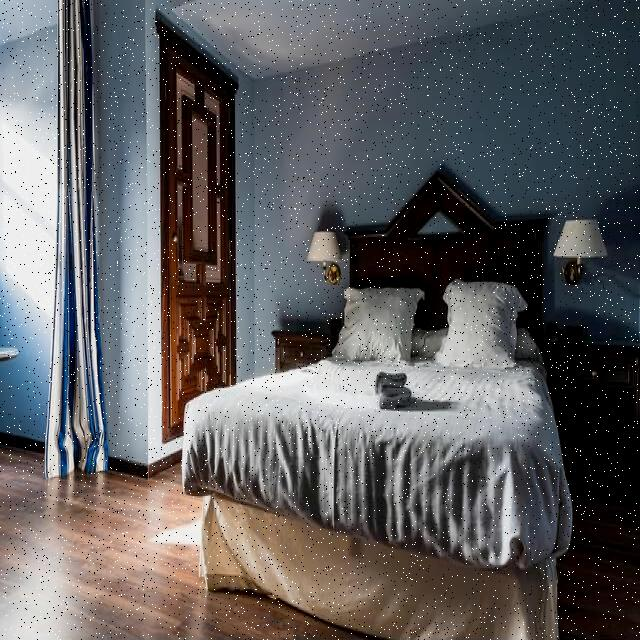bed: (212, 196, 564, 567)
